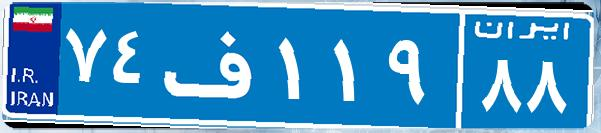1: (273, 28, 330, 110), (330, 28, 385, 110)
4: (110, 28, 158, 105)
7: (57, 26, 110, 107)
8: (475, 38, 525, 113), (525, 38, 570, 115)
9: (385, 28, 445, 110)
ف: (158, 15, 273, 115)
